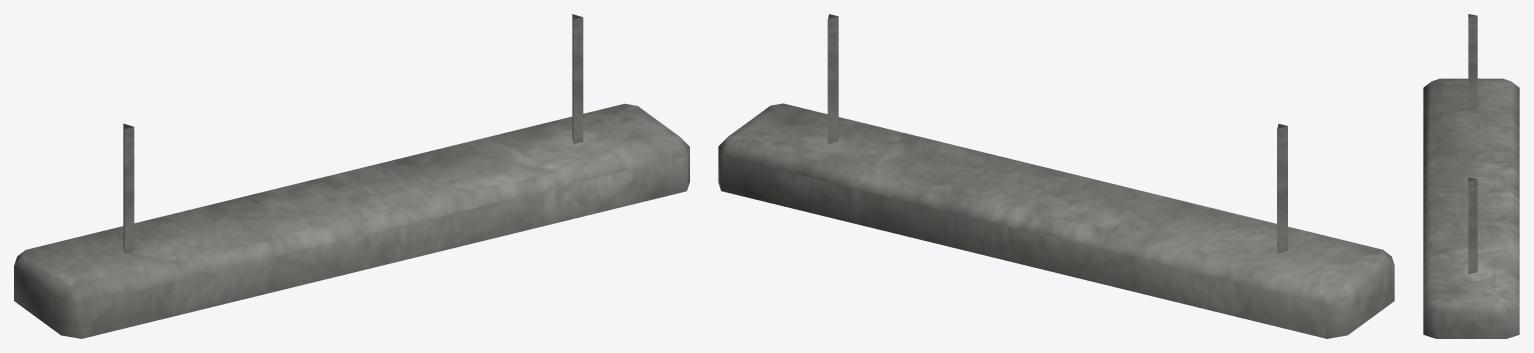
File: Lampara1.obj
3 views of the same model, side by side, from view 1: azimuth 30°, elevation 25°; view 2: azimuth 150°, elevation 25°; view 3: azimuth 270°, elevation 25° (orthographic). The views are drawn at different scales.
Parts seen in each view (by area): view 1: Lampara; view 2: Lampara; view 3: Lampara.
Part boxes in pixels (x1,y1,x2,y2): Lampara: [14, 14, 689, 338]; Lampara: [718, 14, 1394, 338]; Lampara: [1423, 14, 1519, 338].
Bounding box in the file's own units: 19.28 × 4.97 × 3.43.
Materials: 2 (2 with a texture image).
